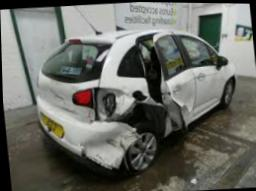Bumper: (49, 109, 151, 171)
Dickey: (36, 72, 100, 122)
Door: (133, 30, 197, 138)
Fender: (93, 75, 164, 123)
